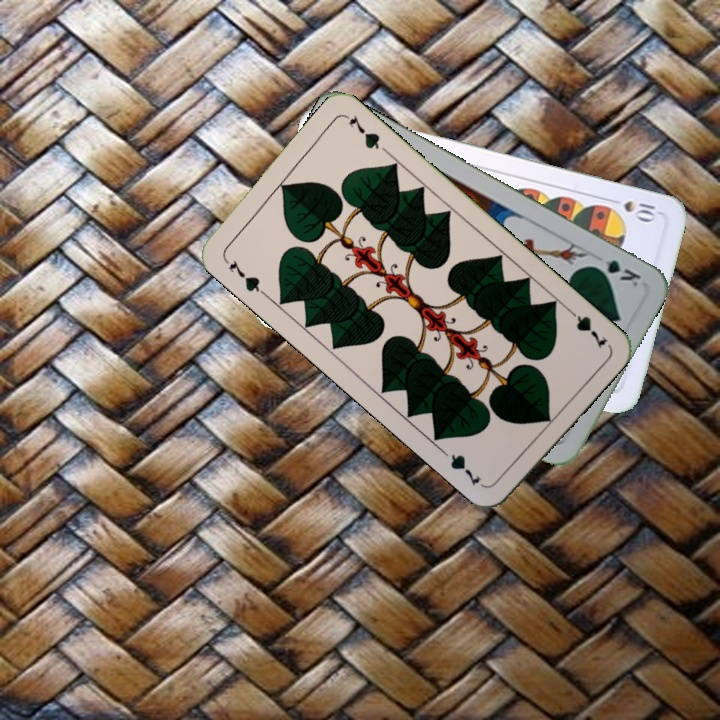G7: (562, 303, 610, 352), (224, 256, 268, 297)
GK: (587, 255, 644, 290)
S10: (619, 196, 662, 224)
